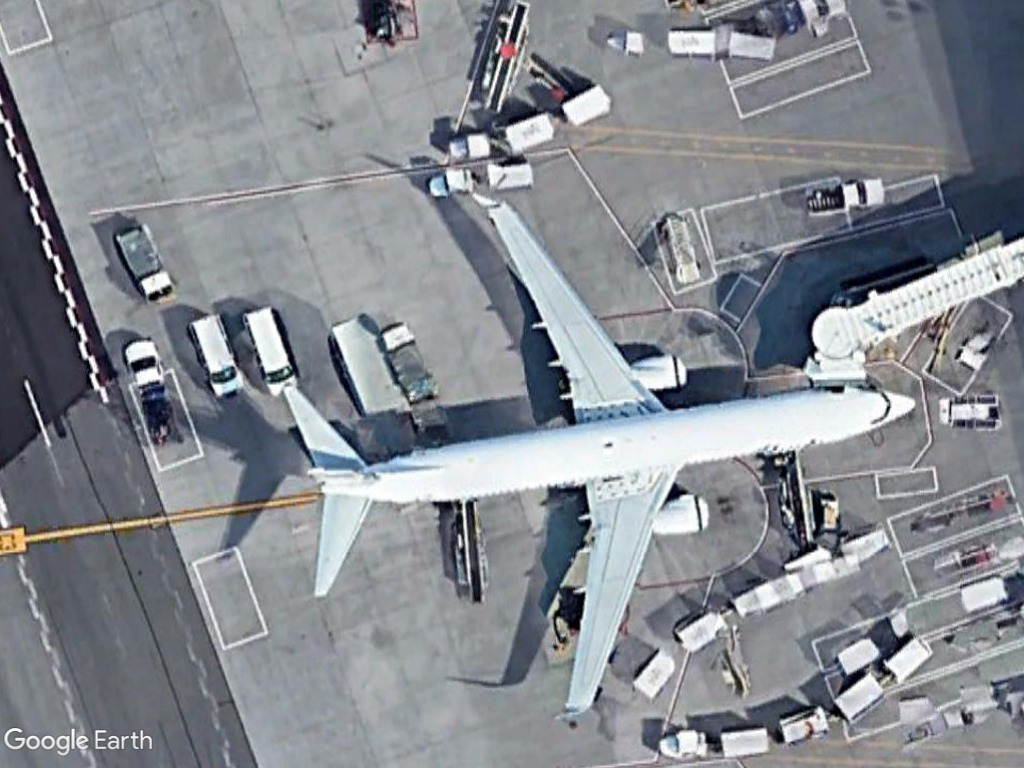airliner: (269, 186, 921, 725)
other: (108, 221, 178, 309)
van: (242, 304, 306, 397), (191, 313, 248, 403)
